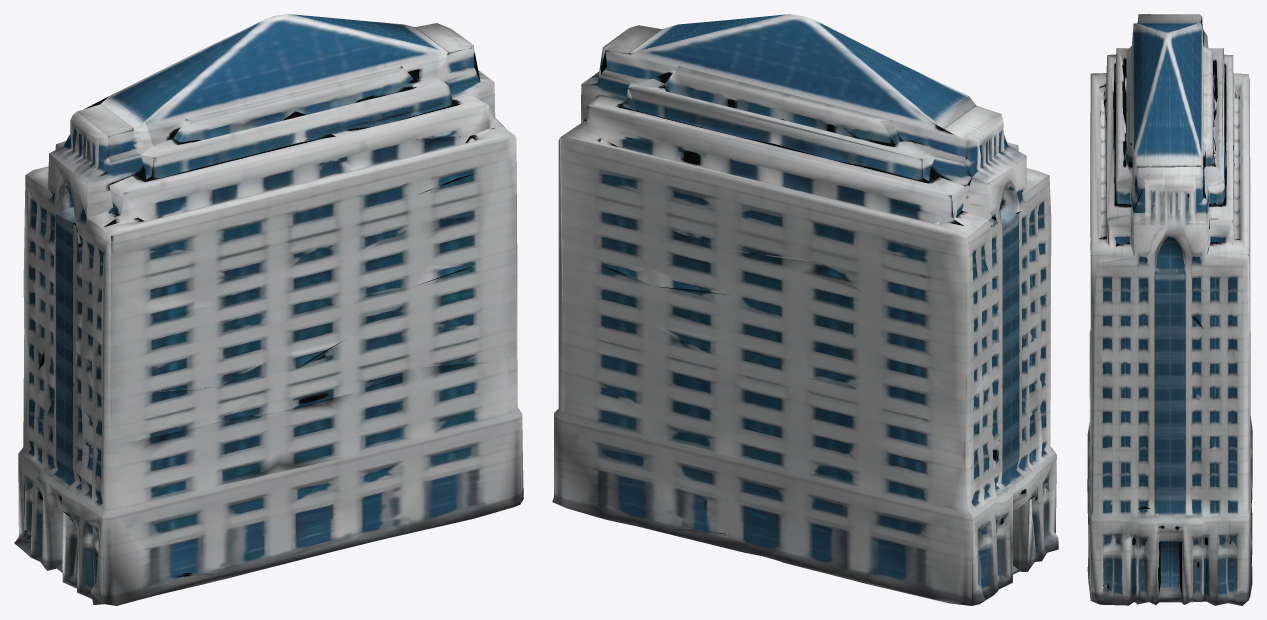
Rendered from lasalle_350_n.glb.
3 renders of one model, left to right at view 1: azimuth 30°, elevation 25°; view 2: azimuth 150°, elevation 25°; view 3: azimuth 270°, elevation 25°, orthographic. The views are drawn at different scales.
Visible parts, largest first — view 1: lasalle_350_n; view 2: lasalle_350_n; view 3: lasalle_350_n.
Boxes of the visible parts, box(x1,y1,x2,y2) form: lasalle_350_n: box(14, 14, 523, 605); lasalle_350_n: box(552, 14, 1058, 605); lasalle_350_n: box(1087, 14, 1252, 605).
Bounding box in the file's own units: 51 × 57 × 18.
Materials: 1 (1 with a texture image).
